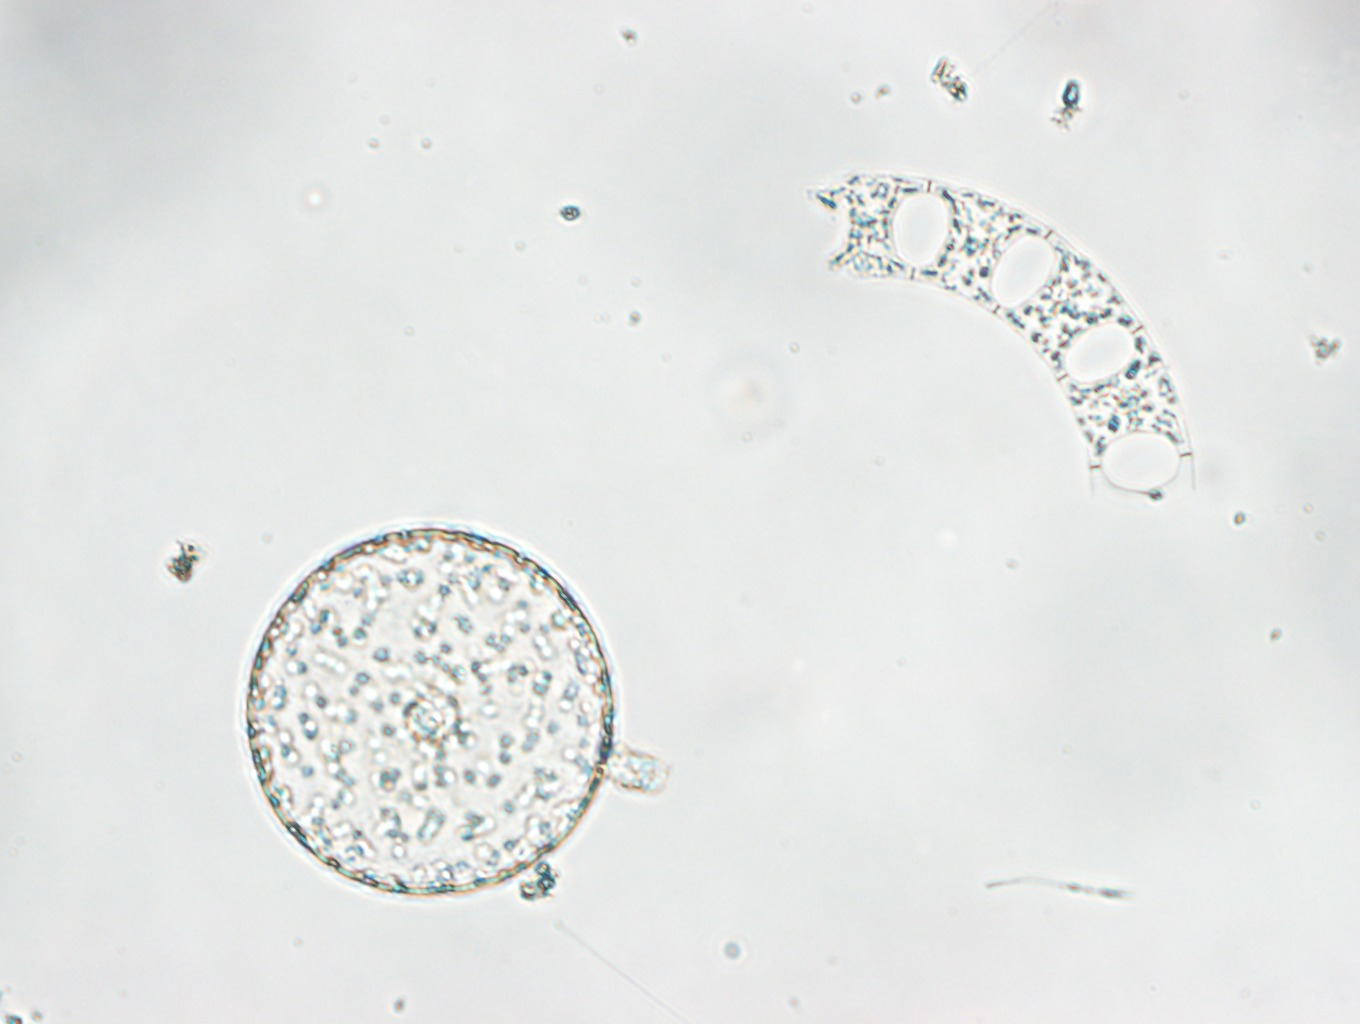coscinodiscus: (243, 524, 613, 899)
eucampia: (804, 167, 1196, 502)
